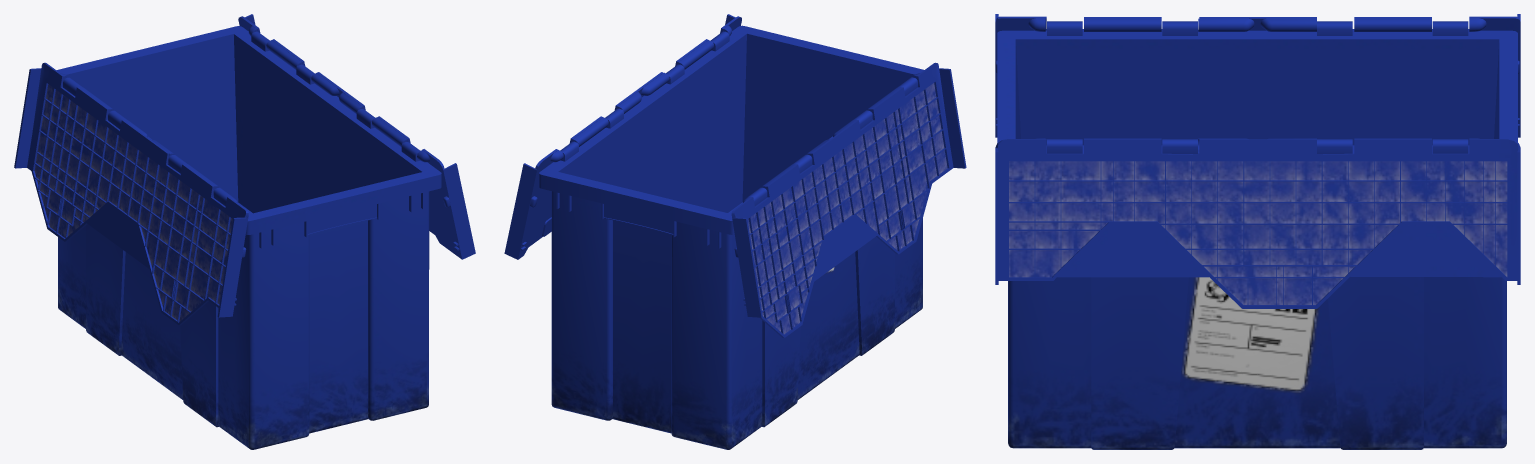
3 views of the same model, side by side, from view 1: azimuth 30°, elevation 25°; view 2: azimuth 150°, elevation 25°; view 3: azimuth 270°, elevation 25° (orthographic). The views are drawn at different scales.
Visible parts, largest first — view 1: industrial_pastic_container, industrial_pastic_container_lid_b, industrial_pastic_container_lid_a; view 2: industrial_pastic_container, industrial_pastic_container_lid_b, industrial_pastic_container_lid_a; view 3: industrial_pastic_container, industrial_pastic_container_lid_a, industrial_pastic_container_lid_b.
Part boxes in pixels (x1,y1,x2,y2): industrial_pastic_container: (56, 26, 441, 449); industrial_pastic_container_lid_b: (14, 62, 248, 325); industrial_pastic_container_lid_a: (238, 14, 475, 259); industrial_pastic_container: (539, 25, 923, 449); industrial_pastic_container_lid_b: (731, 62, 966, 337); industrial_pastic_container_lid_a: (504, 14, 741, 259); industrial_pastic_container: (997, 21, 1517, 449); industrial_pastic_container_lid_a: (995, 138, 1520, 308); industrial_pastic_container_lid_b: (995, 14, 1520, 137).
Size of the model in its own units: 0.4572 by 0.4188 by 0.6315.
Materials: 1 (1 with a texture image).
